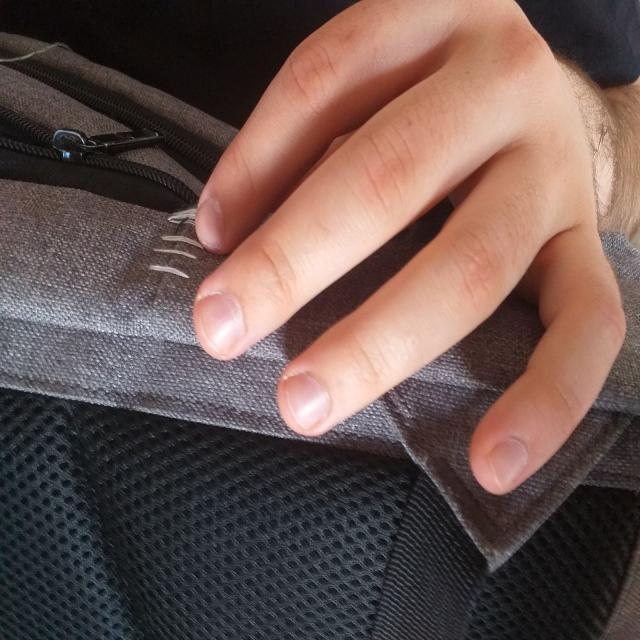Nail: (197, 292, 248, 358), (286, 372, 332, 429), (487, 438, 528, 489), (195, 196, 226, 249)
